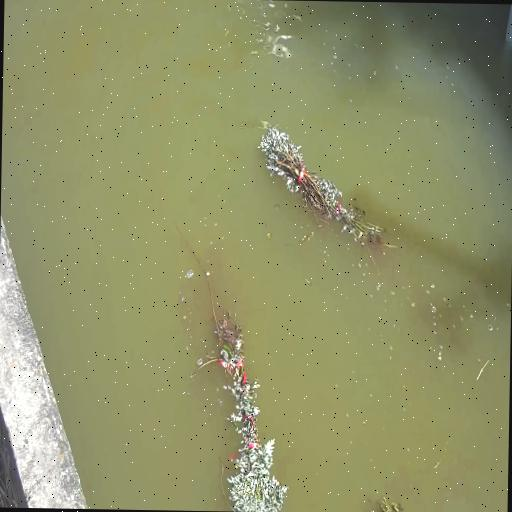twig: (174, 223, 287, 511), (259, 126, 396, 249)
